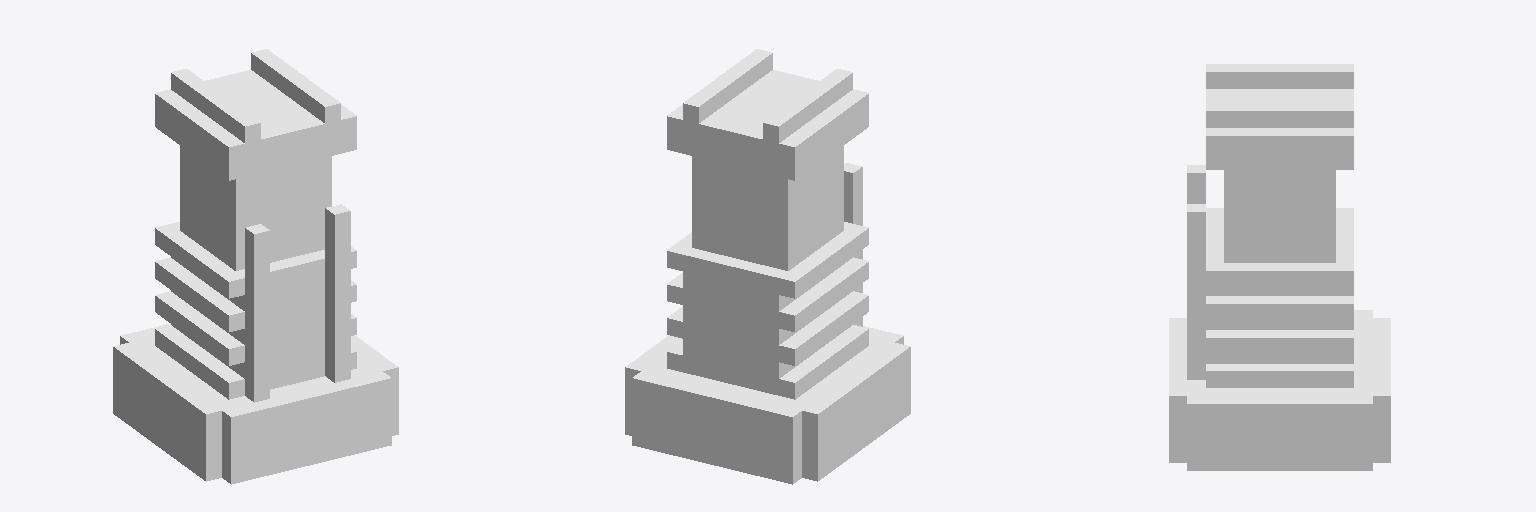
File: crossbow.red.obj
The picture shows the model from 3 angles: view 1: azimuth 30°, elevation 25°; view 2: azimuth 150°, elevation 25°; view 3: azimuth 270°, elevation 25°; orthographic projection.
Visible parts, largest first — view 1: object 1; view 2: object 1; view 3: object 1.
Part boxes in pixels (left/top/right/bottom): object 1: left=113, top=49, right=398, bottom=484; object 1: left=625, top=49, right=910, bottom=484; object 1: left=1169, top=64, right=1390, bottom=470.
Size of the model in its own units: 1.2 by 2 by 1.2.